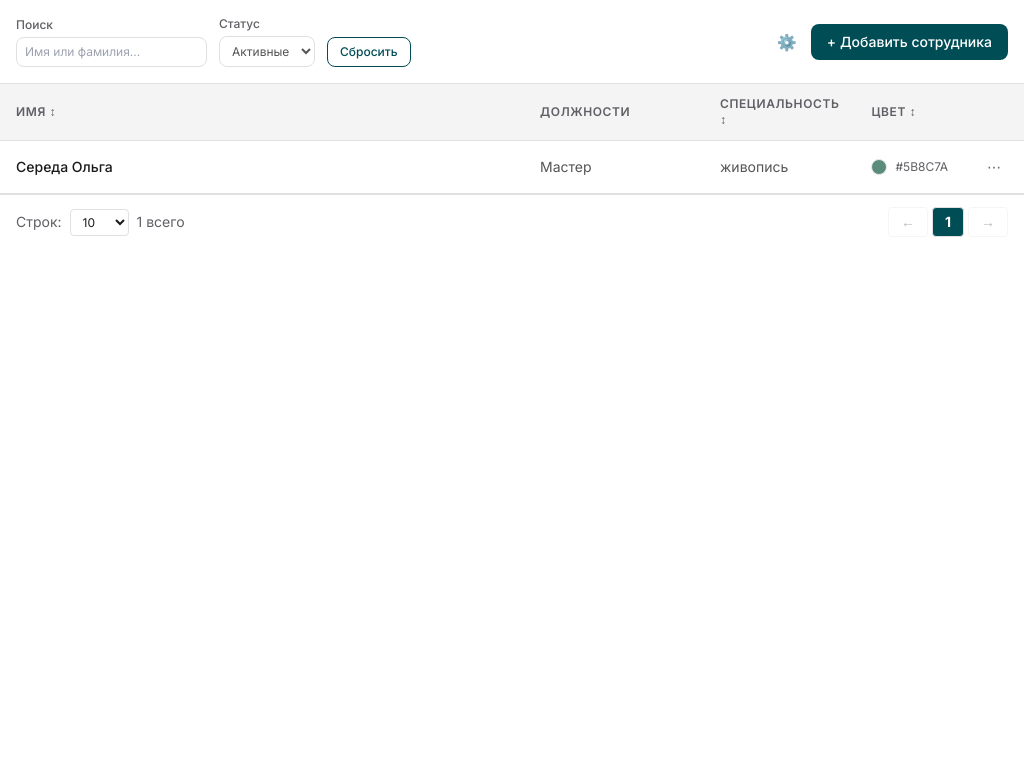
StaffTable › D6 dialog — active master + has_user → both checkboxes visible and preselected
Expected: the text "Середа Ольга" is shown, [16,158,113,175]
Click the button named "Действия". click: point(994, 167)
box: [980,153,1008,181]
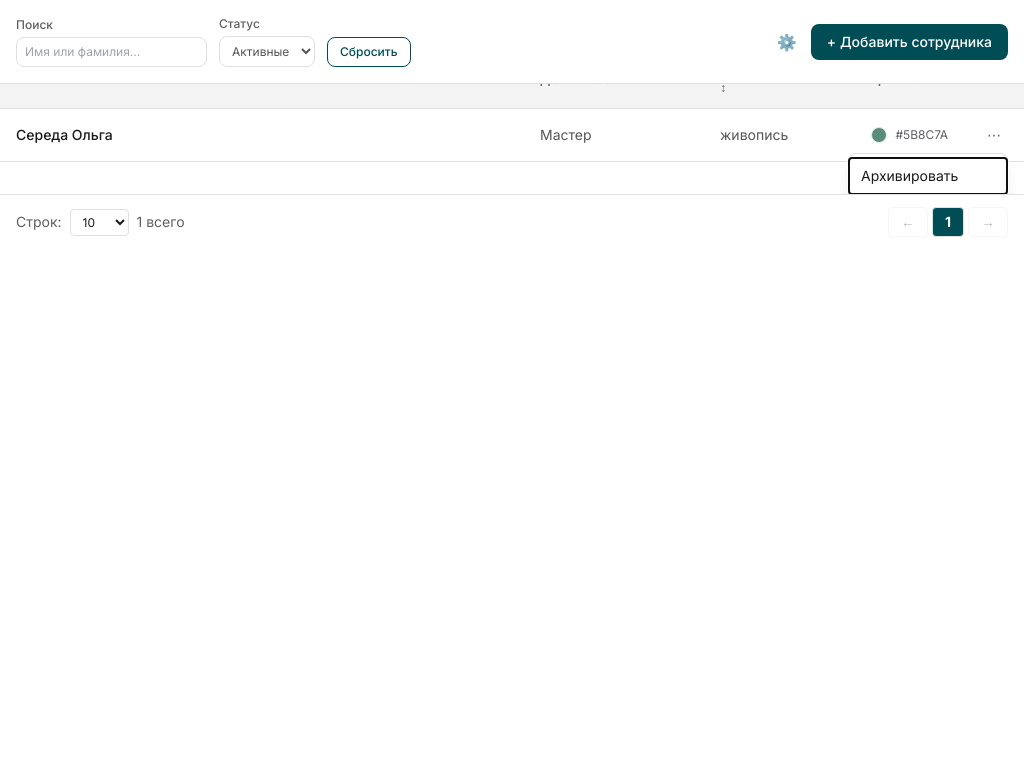
Click the menu item "Архивировать". click: point(928, 176)
box: [849,158,1007,194]
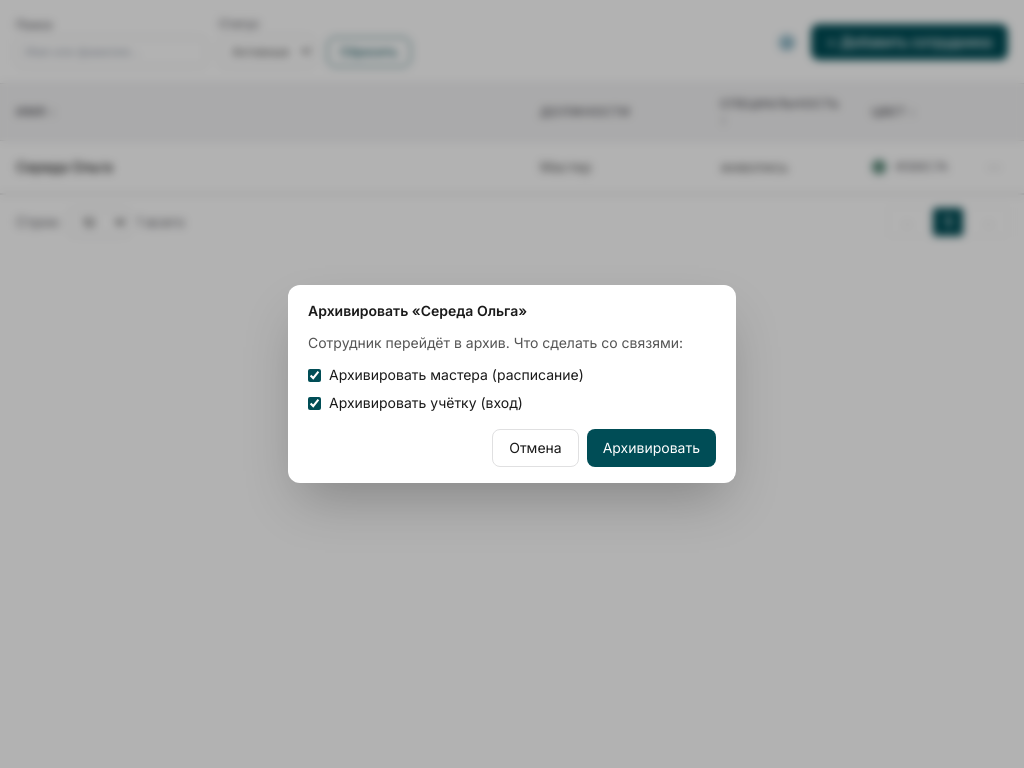
Expected: the checkbox with test id "archive-master-checkbox" is checked, [308,368,321,382]
Expected: the checkbox with test id "archive-user-checkbox" is checked, [308,396,321,410]
